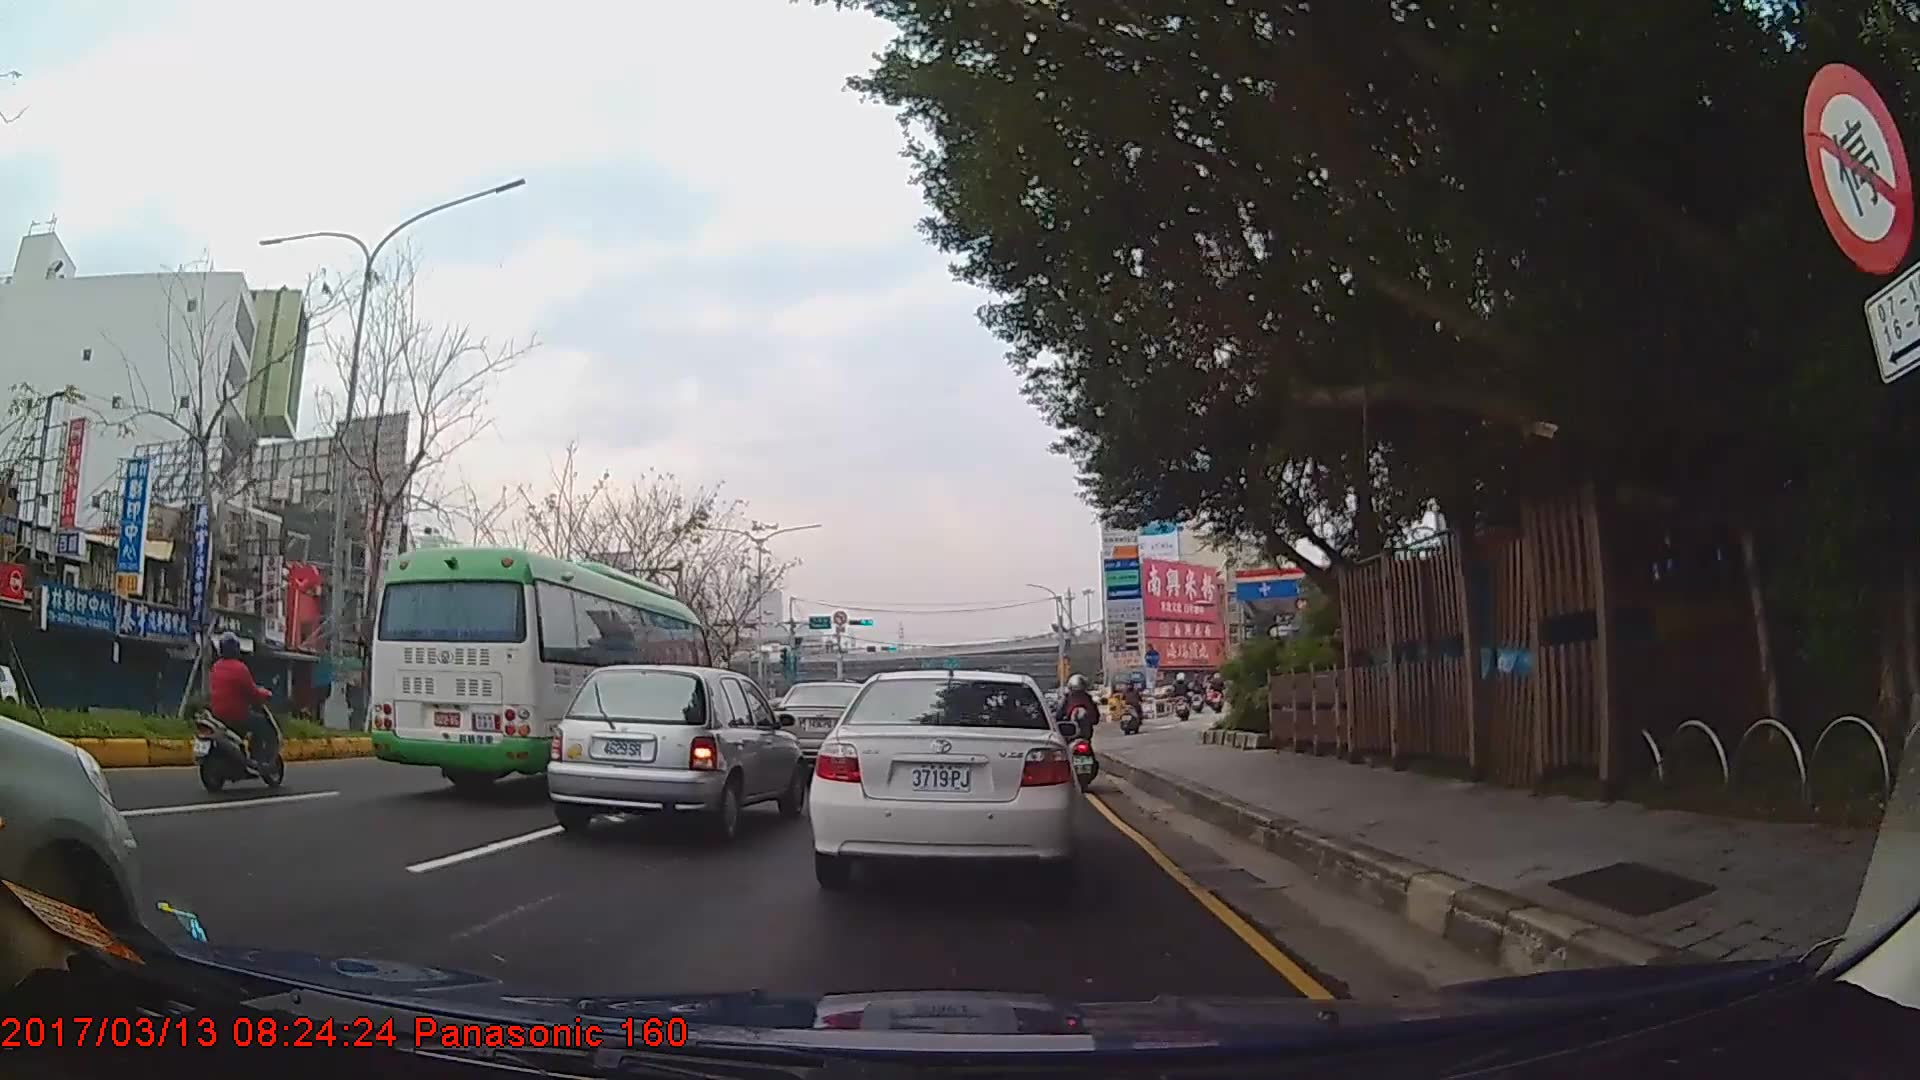rider: (194, 628, 290, 795), (1060, 673, 1099, 789), (1122, 678, 1145, 735), (1173, 671, 1193, 721)
vehicle: (367, 544, 715, 797), (806, 668, 1083, 893), (546, 661, 807, 842), (772, 681, 889, 777)
